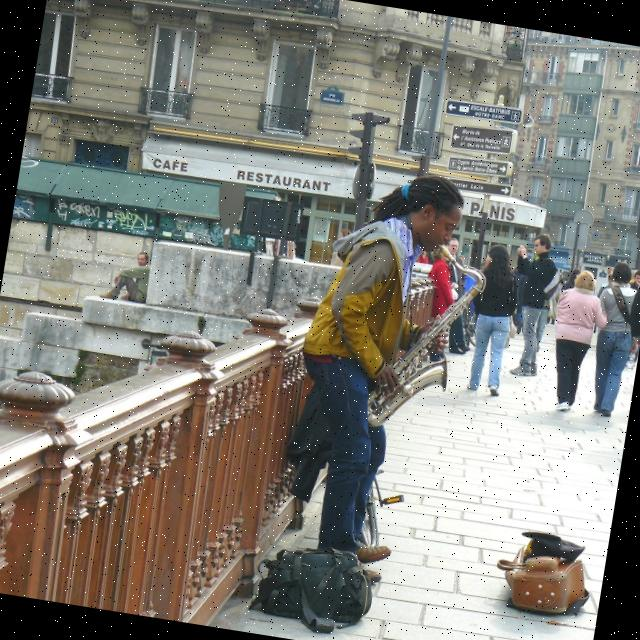saxophone: (357, 236, 492, 442)
